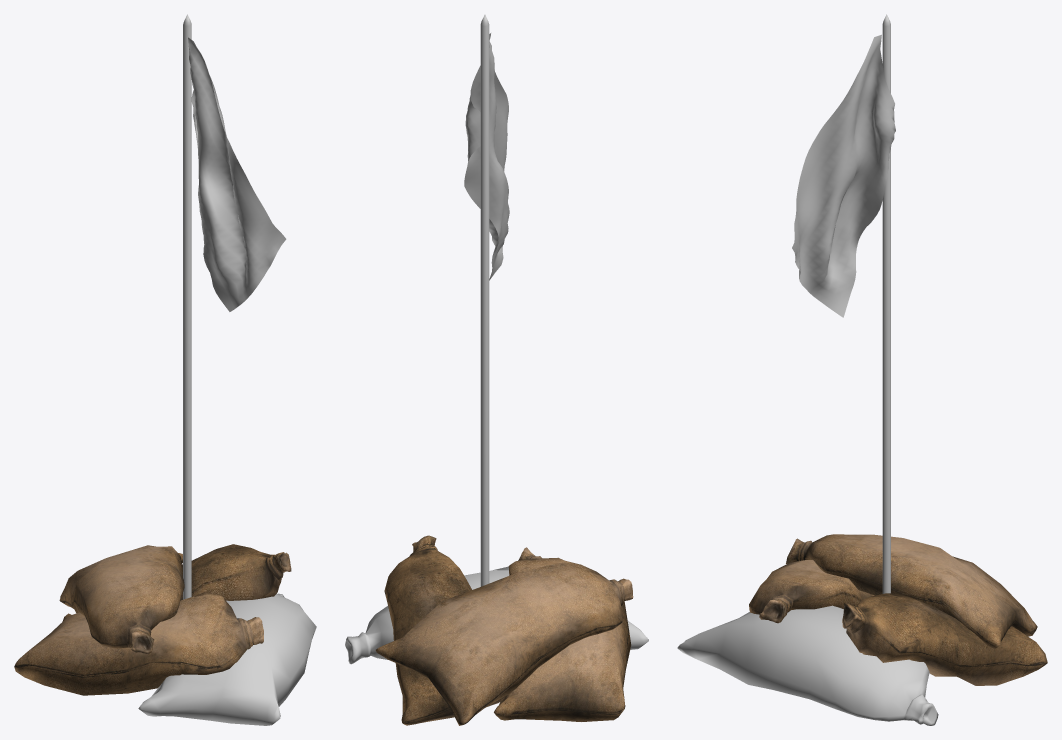
File: Sandbag_flag.FBX
3 views of the same model, side by side, from view 1: azimuth 30°, elevation 25°; view 2: azimuth 150°, elevation 25°; view 3: azimuth 270°, elevation 25° (orthographic). The views are drawn at different scales.
Visible parts, largest first — view 1: Flag, default010, default009, default012, default011; view 2: default012, Flag, default010, default011, default009; view 3: Flag, default009, default012, default011, default010.
Part boxes in pixels (x1,y1,x2,y2): Flag: (183, 14, 286, 599); default010: (14, 592, 263, 695); default009: (138, 593, 316, 725); default012: (59, 545, 184, 653); default011: (180, 544, 291, 600); default012: (375, 562, 633, 725); Flag: (464, 14, 509, 586); default010: (494, 547, 631, 721); default011: (384, 535, 521, 725); default009: (345, 566, 648, 664); Flag: (792, 14, 895, 593); default009: (677, 605, 938, 725); default012: (786, 534, 1037, 648); default011: (842, 593, 1047, 685); default010: (749, 560, 874, 623).
Size of the model in its own units: 161 by 365 by 185.
